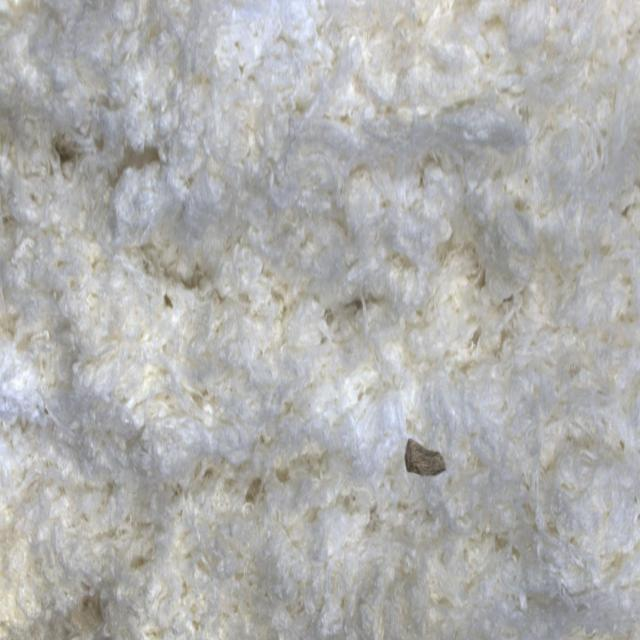dust: (377, 386, 471, 517)
